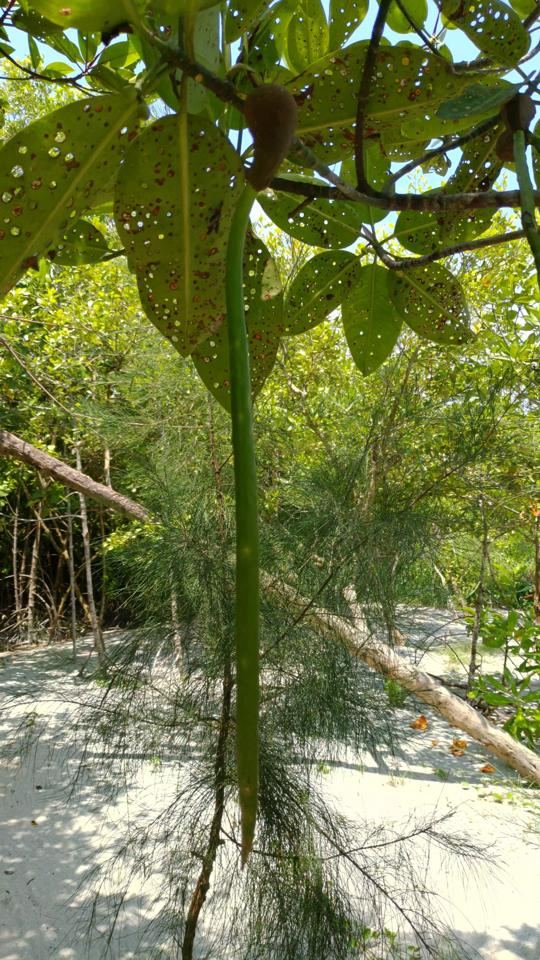mentah: (204, 52, 337, 878)
